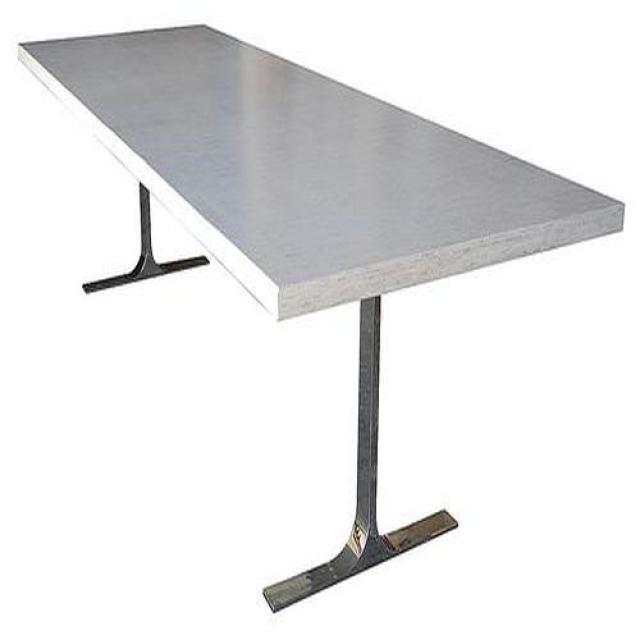table: (14, 26, 626, 616)
